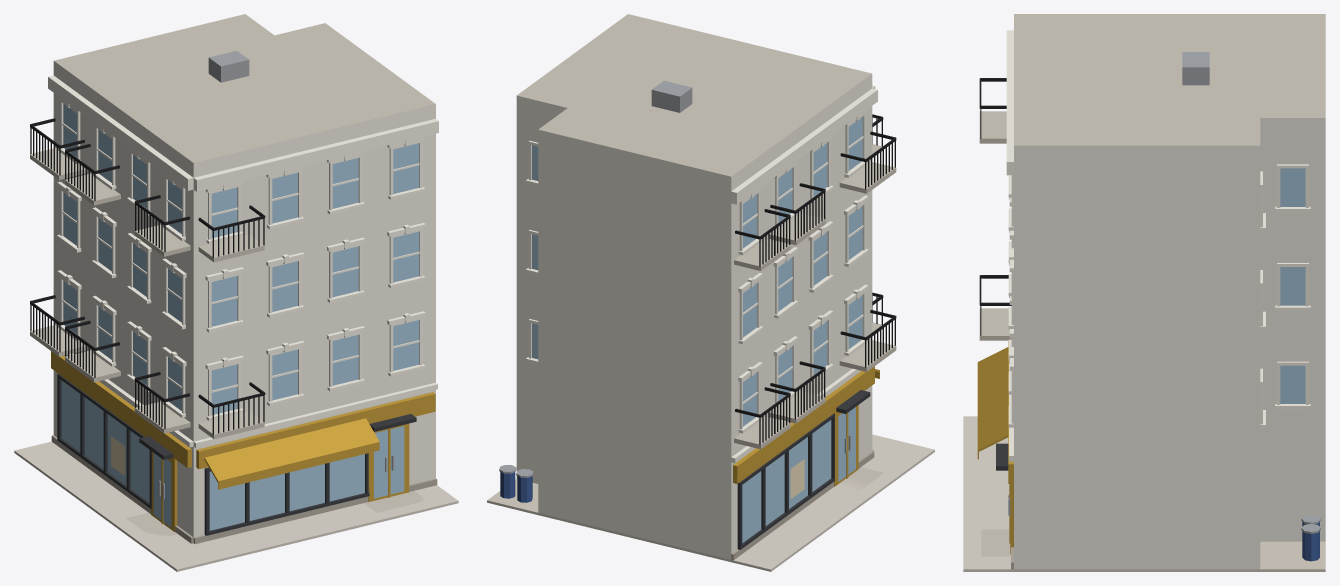
Rendered from Blok_kose_4k_2_Hafif.fbx.
3 renders of one model, left to right at view 1: azimuth 30°, elevation 25°; view 2: azimuth 150°, elevation 25°; view 3: azimuth 270°, elevation 25°, orthographic. The views are drawn at different scales.
Visible parts, largest first — view 1: Blok_kose_4k_2_Hafif; view 2: Blok_kose_4k_2_Hafif; view 3: Blok_kose_4k_2_Hafif.
Part boxes in pixels (x1,y1,x2,y2): Blok_kose_4k_2_Hafif: (14,14,458,571); Blok_kose_4k_2_Hafif: (487,14,934,571); Blok_kose_4k_2_Hafif: (963,14,1325,571).
Size of the model in its own units: 10 by 13.57 by 10.
